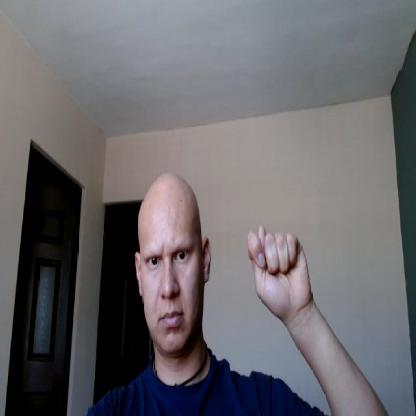T: (244, 219, 314, 318)
